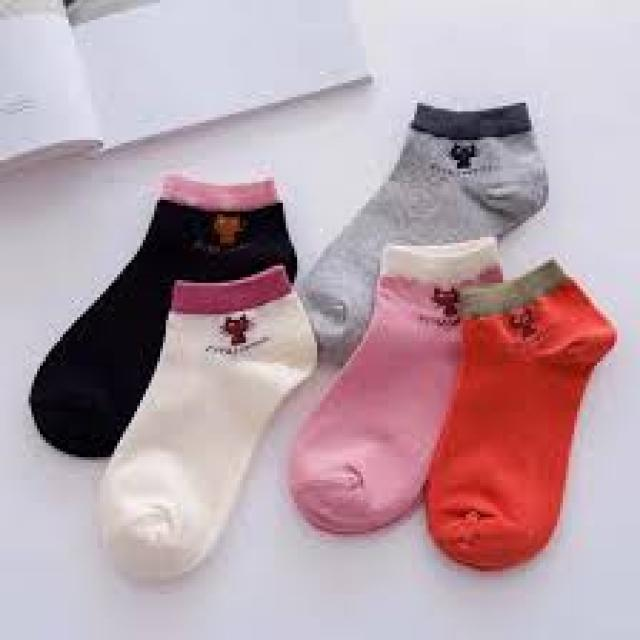sock: (26, 172, 297, 457), (92, 263, 317, 583), (294, 97, 549, 363), (286, 235, 503, 534), (423, 257, 617, 569)
